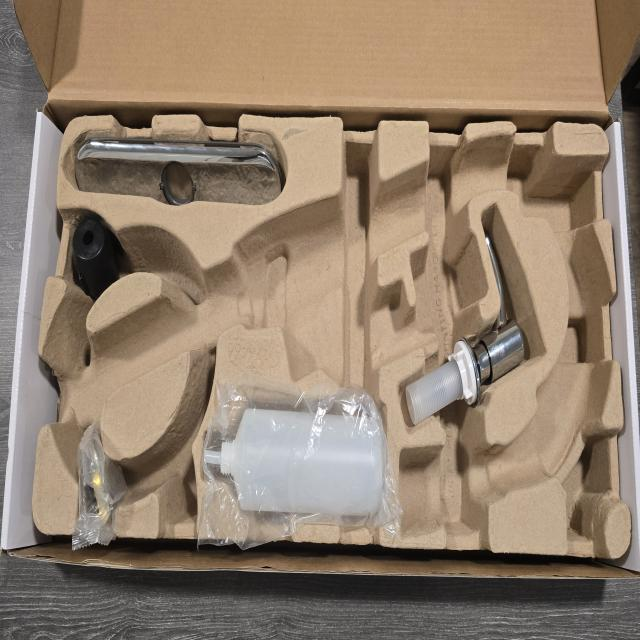1m: (37, 146, 612, 542)
2: (404, 232, 525, 425)
3: (200, 409, 386, 517)
4: (73, 140, 281, 206)
5: (71, 214, 128, 296)
6: (71, 422, 131, 551)
7m: (151, 402, 204, 526)
